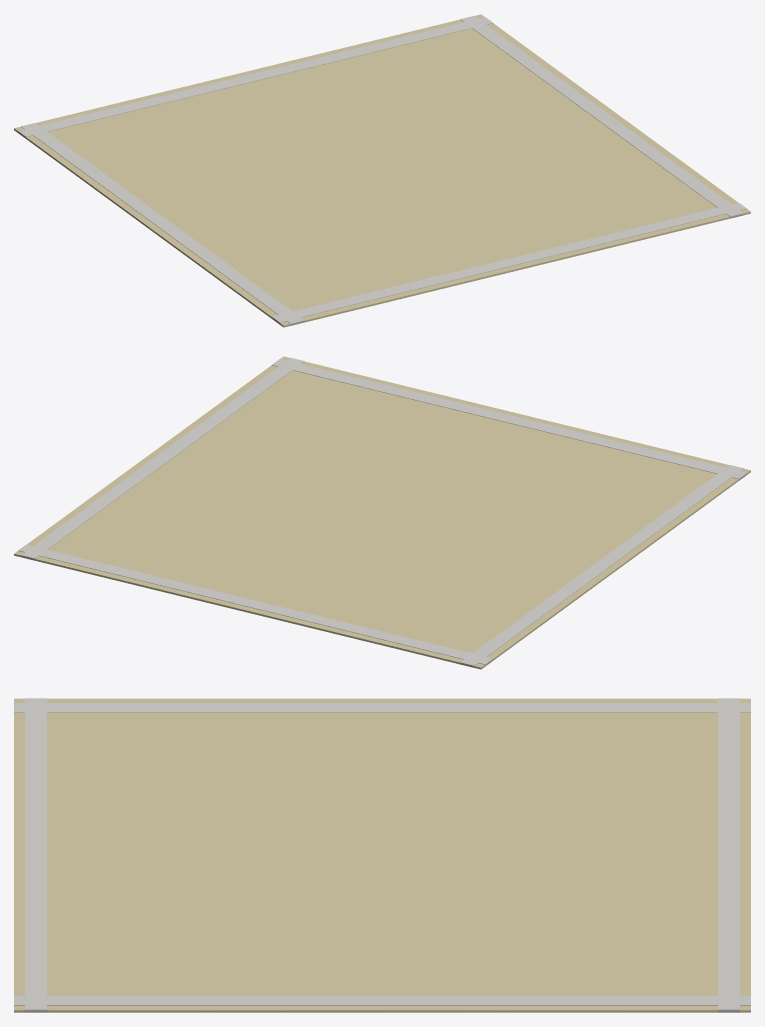
Rendered from shop_rug_zone__kitchen.glb.
3 views of the same model, one above another, from view 1: azimuth 30°, elevation 25°; view 2: azimuth 150°, elevation 25°; view 3: azimuth 270°, elevation 25° (orthographic). The views are drawn at different scales.
Size of the model in its own units: 4 by 0.018 by 4.
